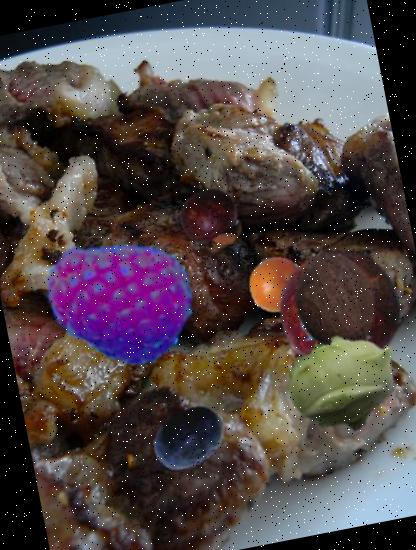Blueberry: (146, 394, 235, 484)
Cocos: (274, 240, 396, 362)
Kohlrabi: (277, 315, 412, 450)
Mangostan: (251, 232, 416, 400), (170, 180, 254, 264)
Raspberry: (34, 207, 206, 378)
Tangelo: (243, 251, 310, 318)
